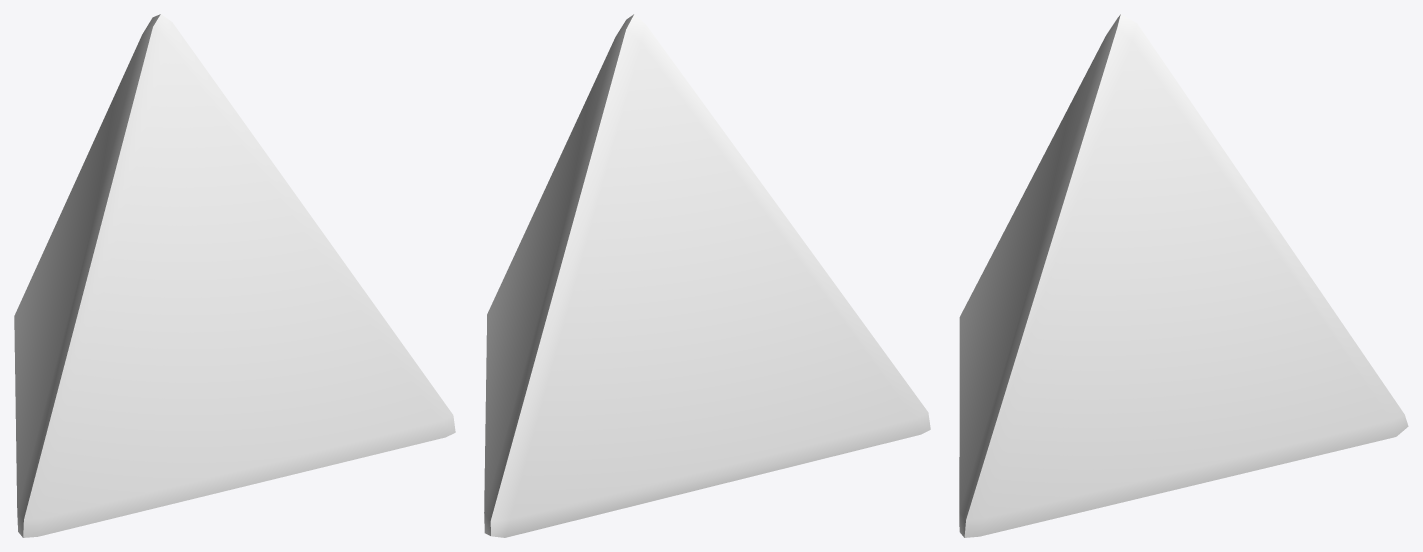
The model's file is Dado4_Col.FBX.
The picture shows the model from 3 angles, left to right: view 1: azimuth 30°, elevation 25°; view 2: azimuth 150°, elevation 25°; view 3: azimuth 270°, elevation 25°; orthographic projection.
Visible parts, largest first — view 1: Dado4_Col; view 2: Dado4_Col; view 3: Dado4_Col.
Boxes of the visible parts, <box> form: Dado4_Col: <box>14,14,455,537</box>; Dado4_Col: <box>484,14,930,537</box>; Dado4_Col: <box>959,14,1408,537</box>.
Size of the model in its own units: 239 by 222 by 213.
